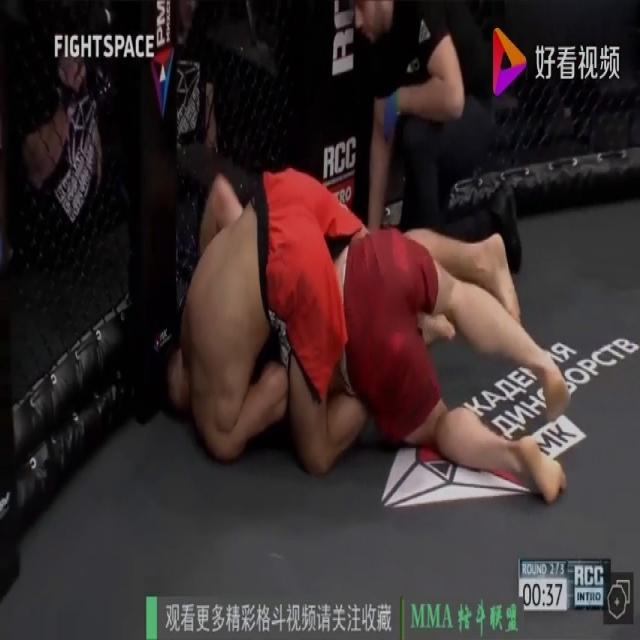fight: (159, 165, 571, 508)
non-fight: (349, 0, 523, 276), (4, 5, 110, 259), (156, 0, 218, 308)
